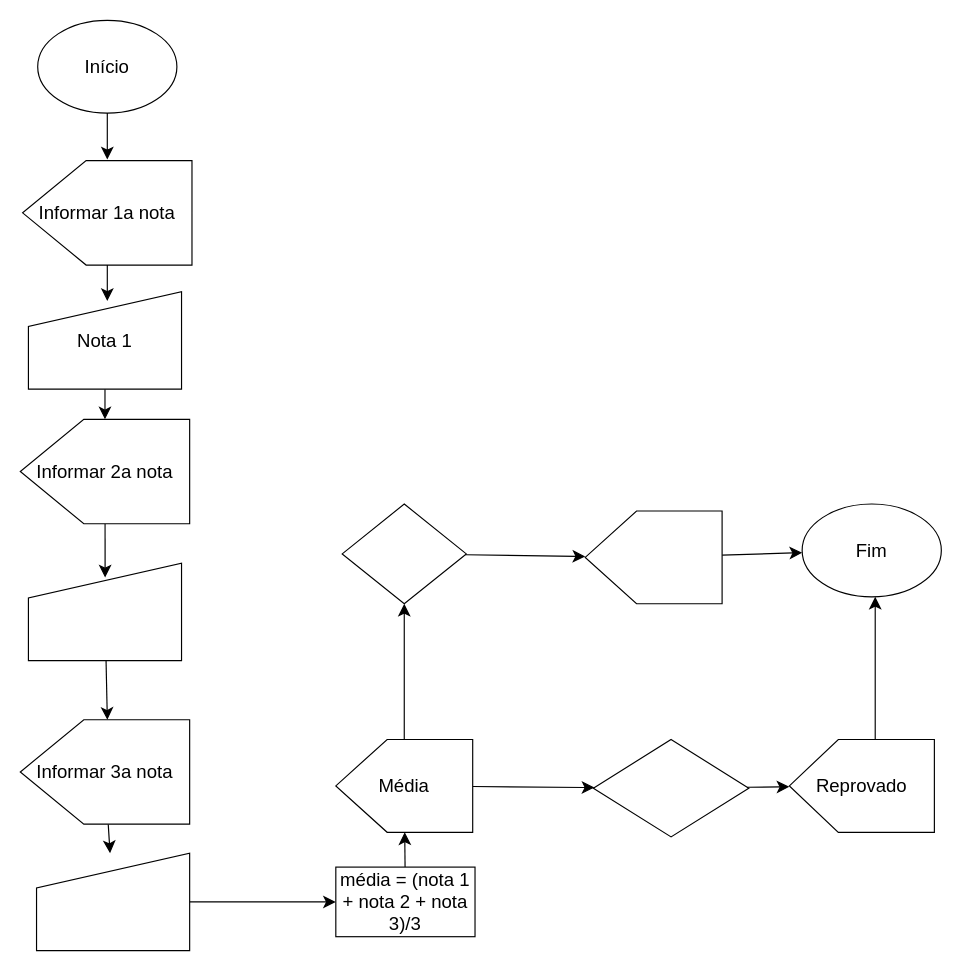
Image size: 962x971. Some labels were removed from this diagram. Each missing label, with the centre of its shape:
"Aprovado" belongs at point 653,557.
"Média < 7" belongs at point 670,787.
"Média > = 7" belongs at point 403,553.
"nota 2" belongs at point 104,611.
"nota 3" belongs at point 112,901.
